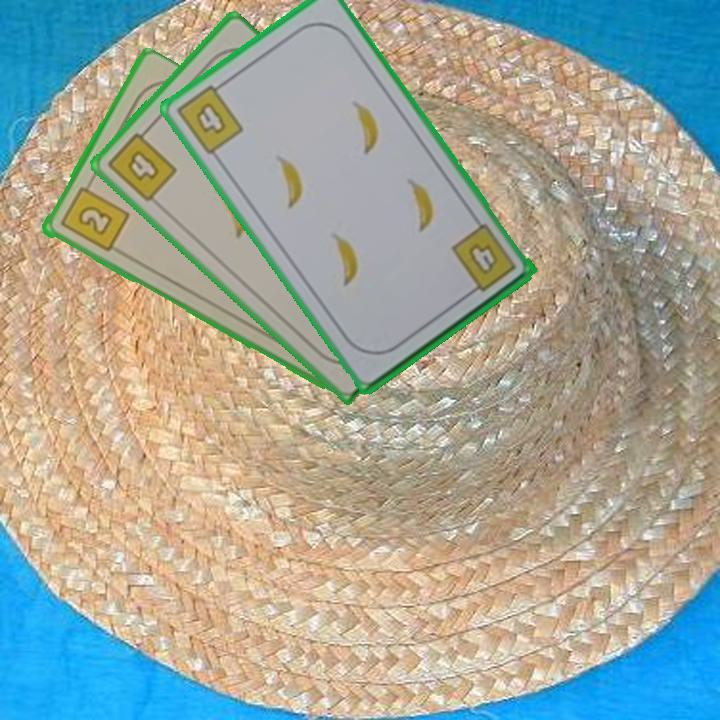2b: (56, 176, 132, 255)
4b: (103, 123, 180, 205), (172, 77, 246, 158), (447, 220, 520, 299)
